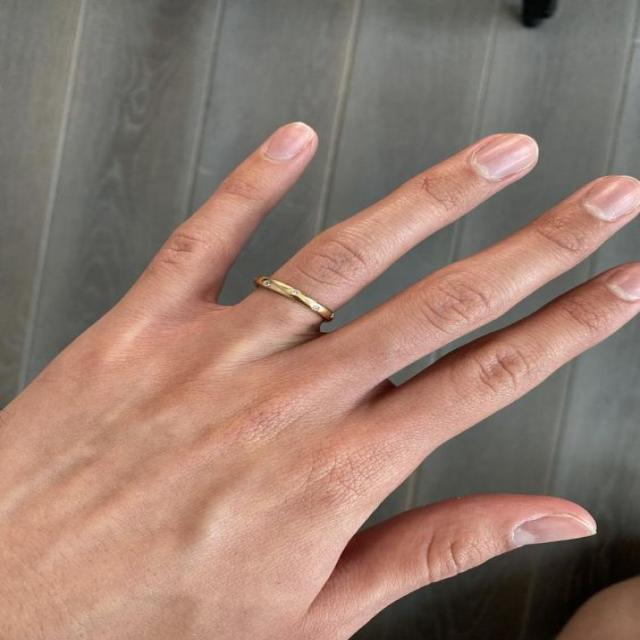Fingernail: (475, 134, 538, 180), (514, 515, 593, 548), (267, 123, 314, 161)
